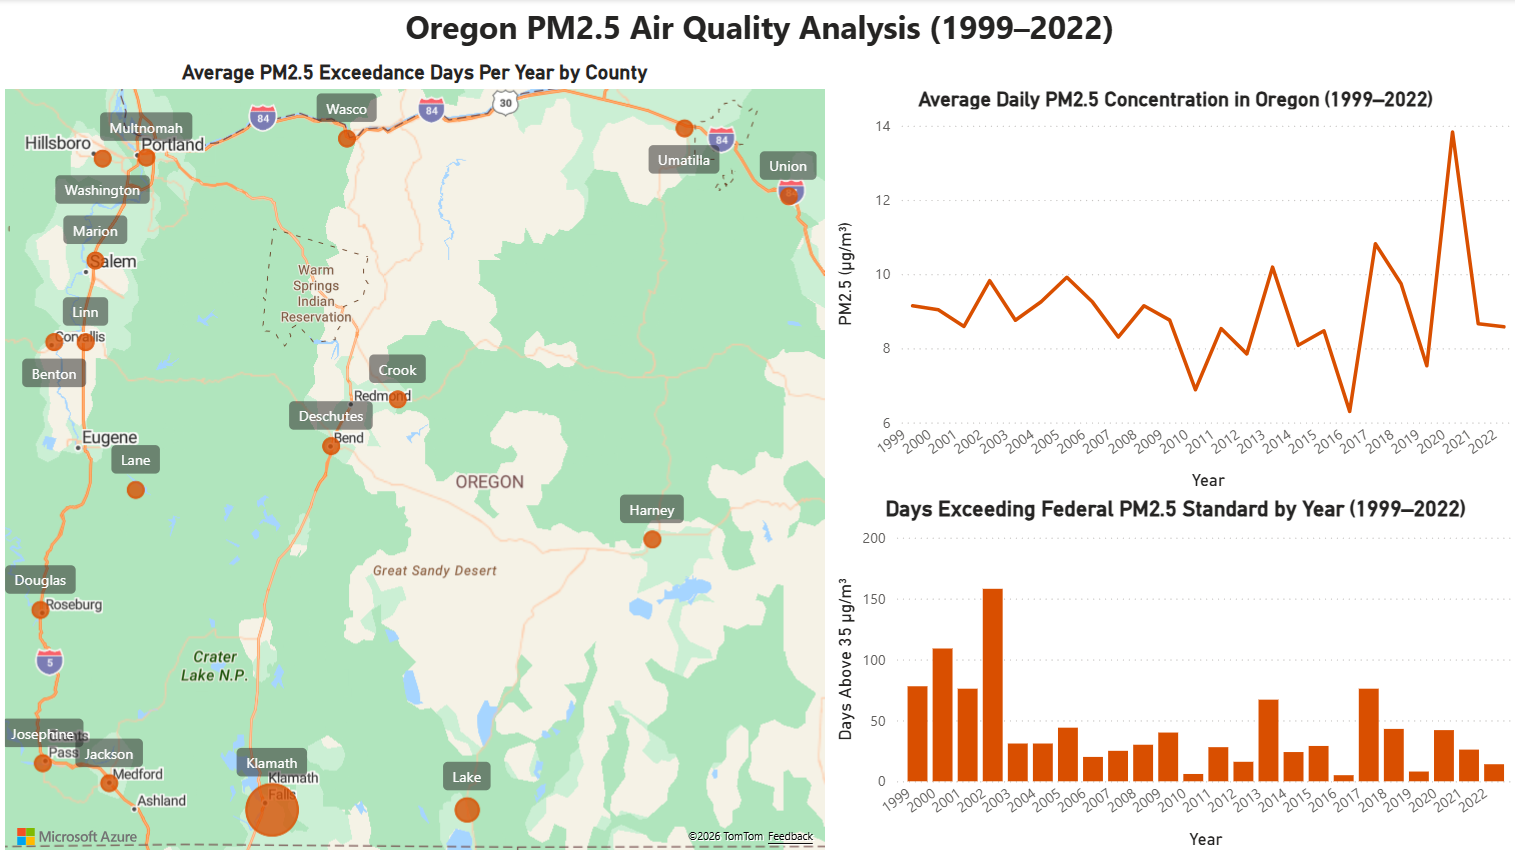

The page's visual inventory and layout, read from the dashboard file:
{"tool":"powerbi","page":{"name":"Page 1","canvas":[1280,720],"ordinal":0},"visuals":[{"type":"clusteredColumnChart","title":"Days Exceeding Federal PM2.5 Standard by Year (1999–2022)","fields":{"Category":["oregon_air_quality daily_readings.date_local.Variation.Date Hierarchy.Year"],"Y":["oregon_air_quality daily_readings.Unhealthy_Days"]},"box":[699.5,418.5,580.5,301.5],"z":0},{"type":"lineChart","title":"Average Daily PM2.5 Concentration in Oregon (1999–2022)","fields":{"Category":["oregon_air_quality daily_readings.date_local.Variation.Date Hierarchy.Year"],"Y":["Avg(oregon_air_quality daily_readings.arithmetic_mean)"]},"box":[699.5,73.8,580.5,344.6],"z":1},{"type":"azureMap","title":"PM2.5 Exceedance Days by County (Normalized by Monitor Count)","fields":{"Size":["Sum(oregon_air_quality county_unhealthy_avg.avg_unhealthy_days_per_monitor)"],"Y":["Avg(oregon_air_quality county_unhealthy_avg.latitude)"],"X":["Avg(oregon_air_quality county_unhealthy_avg.longitude)"],"Category":["oregon_air_quality county_unhealthy_avg.county_name"]},"box":[0,51.3,699.5,668.7],"z":2},{"type":"textbox","box":[0,0,1280,45.1],"z":3}]}

Visuals, with their boxes in screenshot pixels (x1, y1, x2, y2), scaled from the page's 1280x720 canvas onto the 1515x855 screenshot:
"Days Exceeding Federal PM2.5 Standard by Year (1999–2022)" clusteredColumnChart: (x1=828, y1=497, x2=1514, y2=854)
"Average Daily PM2.5 Concentration in Oregon (1999–2022)" lineChart: (x1=828, y1=88, x2=1514, y2=497)
"PM2.5 Exceedance Days by County (Normalized by Monitor Count)" azureMap: (x1=0, y1=61, x2=828, y2=854)
textbox: (x1=0, y1=0, x2=1514, y2=54)
